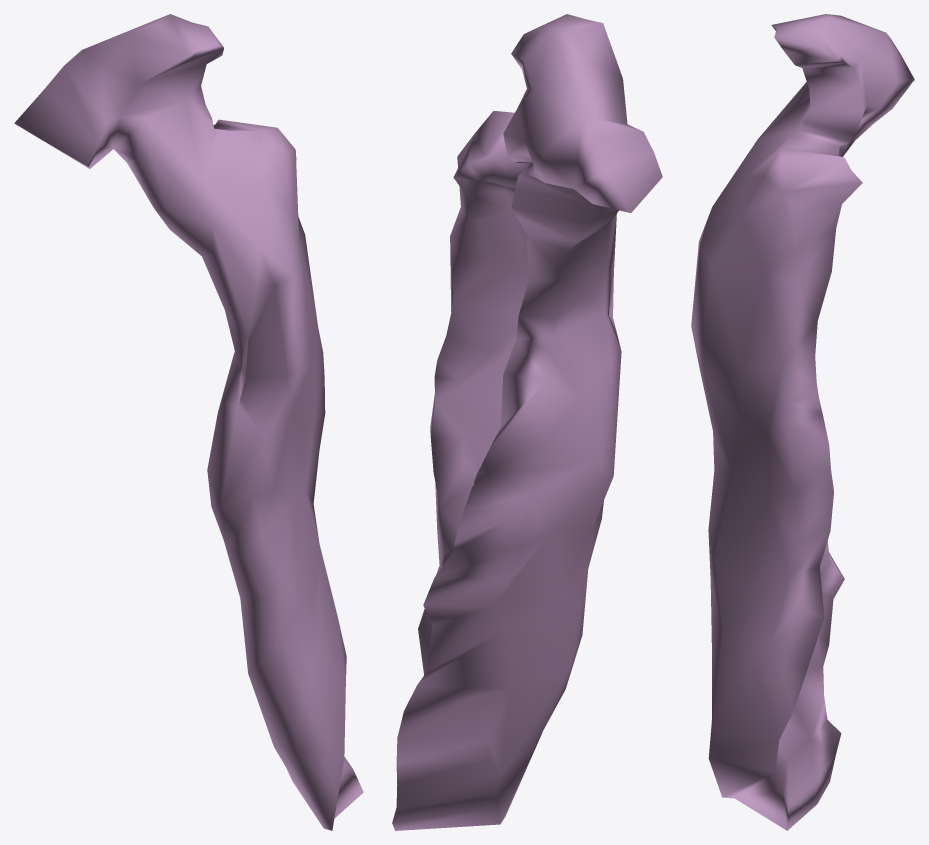
3 renders of one model, left to right at view 1: azimuth 30°, elevation 25°; view 2: azimuth 150°, elevation 25°; view 3: azimuth 270°, elevation 25°, orthographic. The views are drawn at different scales.
Parts seen in each view (by area): view 1: 右侧嗅沟; view 2: 右侧嗅沟; view 3: 右侧嗅沟.
Boxes of the visible parts, x1,y1,x2,y2 form: 右侧嗅沟: (14,14,363,830); 右侧嗅沟: (392,14,662,830); 右侧嗅沟: (691,14,914,830).
Bounding box in the file's own units: 0.0314 × 0.0848 × 0.0233.
